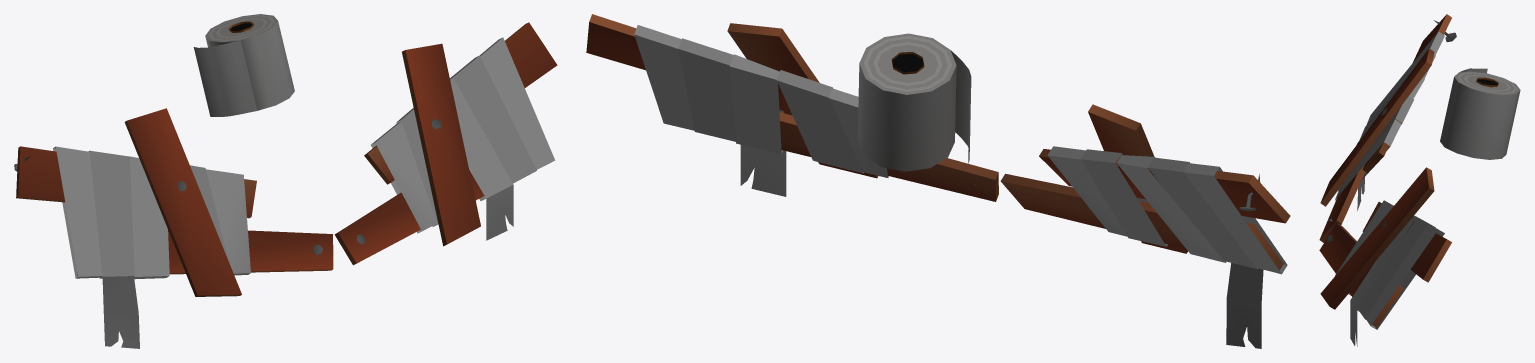
The model's file is hat_premium_ToiletPaperWings.glb.
3 renders of one model, left to right at view 1: azimuth 30°, elevation 25°; view 2: azimuth 150°, elevation 25°; view 3: azimuth 270°, elevation 25°, orthographic. The views are drawn at different scales.
Parts seen in each view (by area): view 1: hat_premium_ToiletPaperWings; view 2: hat_premium_ToiletPaperWings; view 3: hat_premium_ToiletPaperWings.
Boxes of the visible parts, left/top/right/bottom form: hat_premium_ToiletPaperWings: left=14, top=14, right=557, bottom=348; hat_premium_ToiletPaperWings: left=586, top=14, right=1290, bottom=348; hat_premium_ToiletPaperWings: left=1319, top=14, right=1520, bottom=346.
Bounding box in the file's own units: 0.8706 × 0.3615 × 0.3099.
